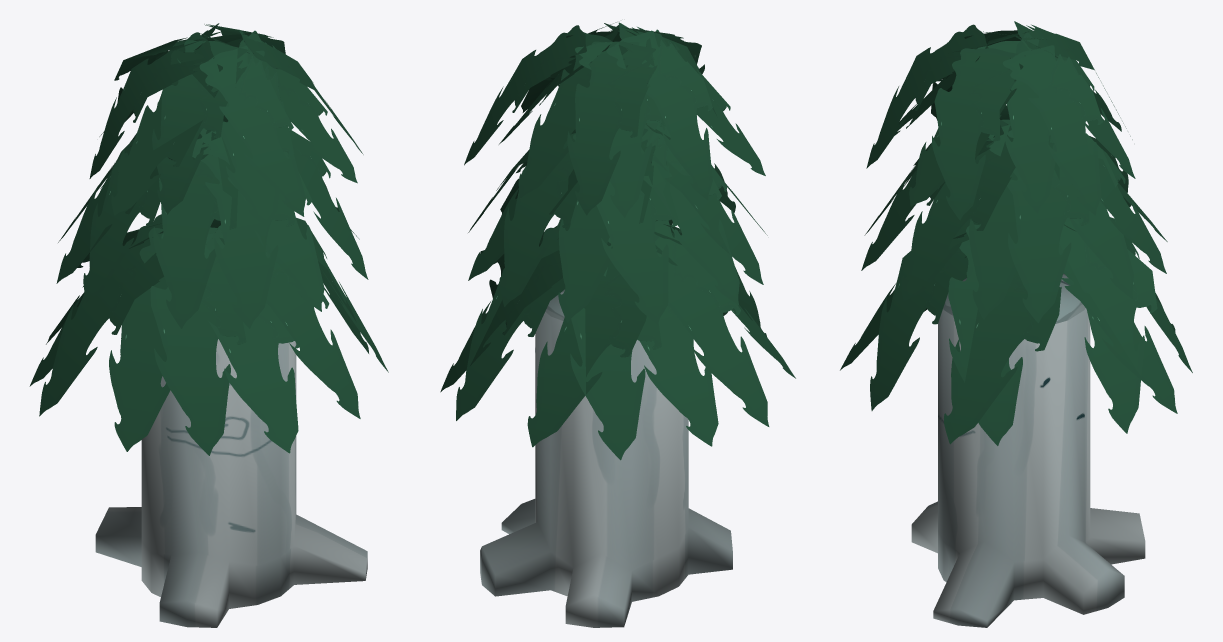
The model's file is ArvoreInverno.fbx.
3 views of the same model, side by side, from view 1: azimuth 30°, elevation 25°; view 2: azimuth 150°, elevation 25°; view 3: azimuth 270°, elevation 25° (orthographic). The views are drawn at different scales.
Visible parts, largest first — view 1: Folhas, ArvoreInverno; view 2: Folhas, ArvoreInverno; view 3: Folhas, ArvoreInverno.
Part boxes in pixels (x1,y1,x2,y2): Folhas: (29, 23, 388, 455); ArvoreInverno: (95, 339, 367, 627); Folhas: (440, 22, 795, 460); ArvoreInverno: (480, 289, 732, 627); Folhas: (840, 21, 1192, 445); ArvoreInverno: (911, 273, 1145, 627).
Bounding box in the file's own units: 263 × 257 × 403.
